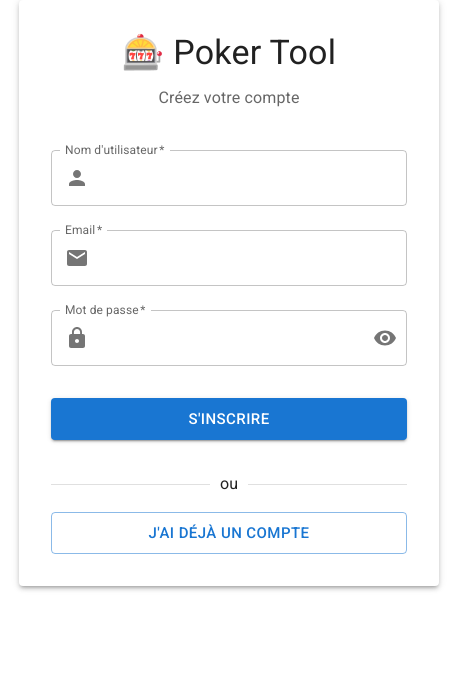
Test: Register page › shows error for short password
Type "testuser" into the field with test id "register-username".
click(252, 178); type("testuser")  # box 97,150 -> 407,206
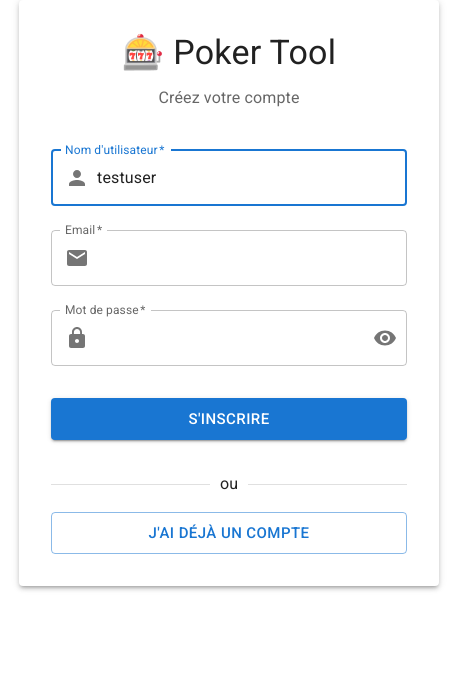
Type "test@test.com" into the field with test id "register-email".
click(252, 258); type("test@test.com")  # box 97,230 -> 407,286
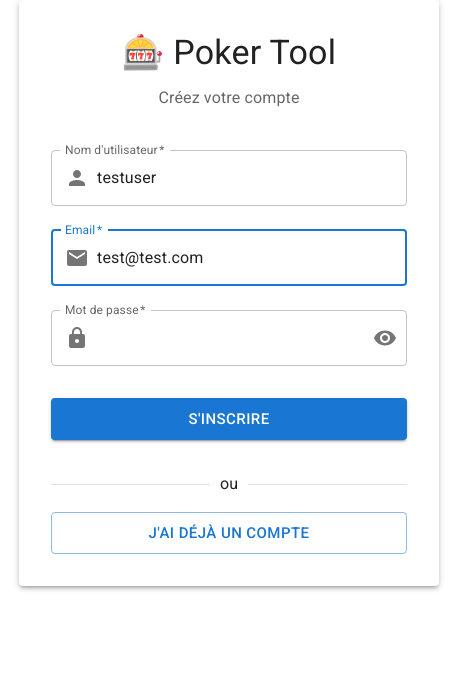
Type "short" into the password field with test id "register-password".
click(227, 338); type("short")  # box 97,310 -> 357,366
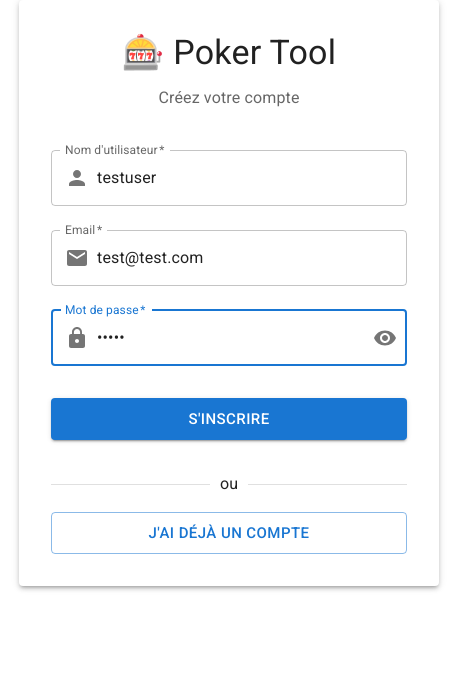
Click the button with test id "register-submit".
click(229, 419)  # box 51,398 -> 407,440
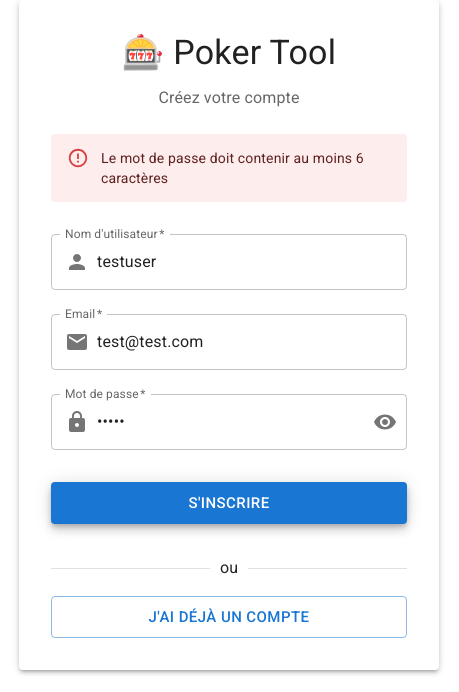
Check: the message shows "6 caract", box 101,150 -> 364,186
